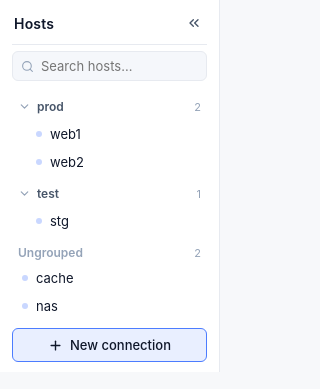
it: Drawer — search › filters as you type and drops groups with no match
Step 1. Type "web" into the field labelled "Search hosts" → (110, 66), box [12,51,207,81]
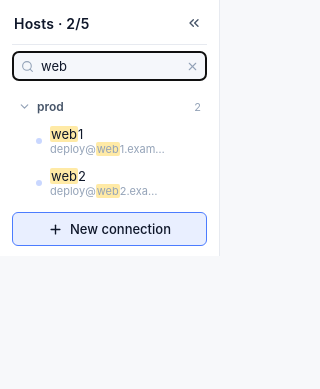
Check: the button "stg" is gone
Check: the button "test" is gone
Check: the button "cache" is gone
